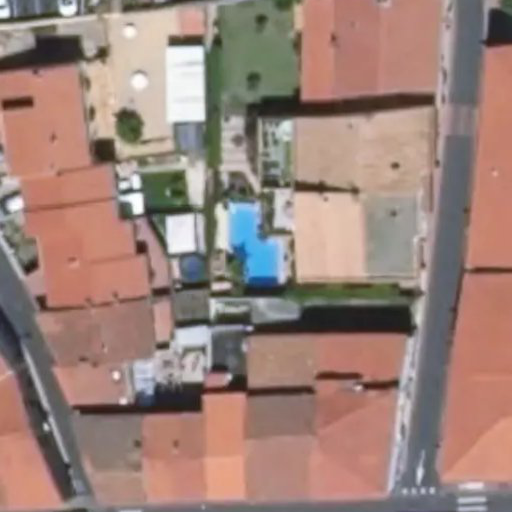pool: (227, 201, 291, 289)
